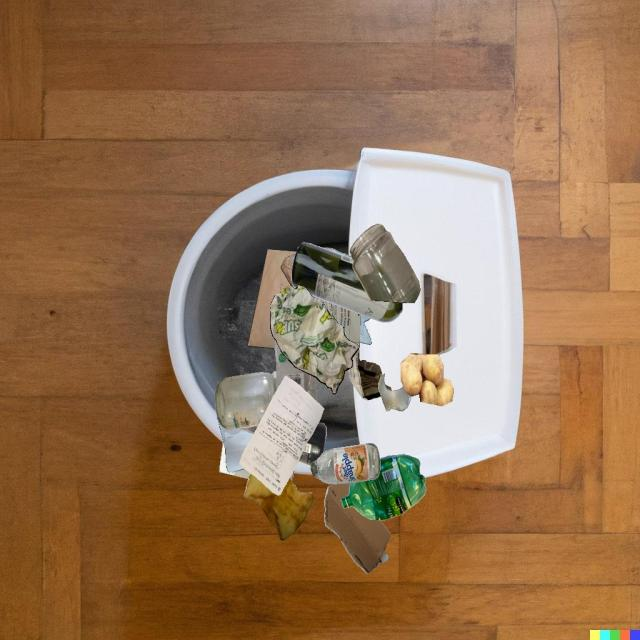biowaste: (244, 473, 314, 540), (401, 353, 454, 406)
cardboard: (324, 483, 390, 574)
glass: (291, 242, 402, 322), (350, 224, 420, 303), (215, 372, 276, 430), (311, 443, 380, 484), (378, 373, 411, 411), (298, 422, 326, 466)
paper: (239, 376, 324, 495), (270, 285, 359, 394), (325, 301, 382, 400), (292, 249, 360, 328), (248, 249, 297, 349), (217, 417, 258, 472), (219, 441, 251, 479)
plastic: (341, 454, 426, 520), (274, 340, 317, 402)
